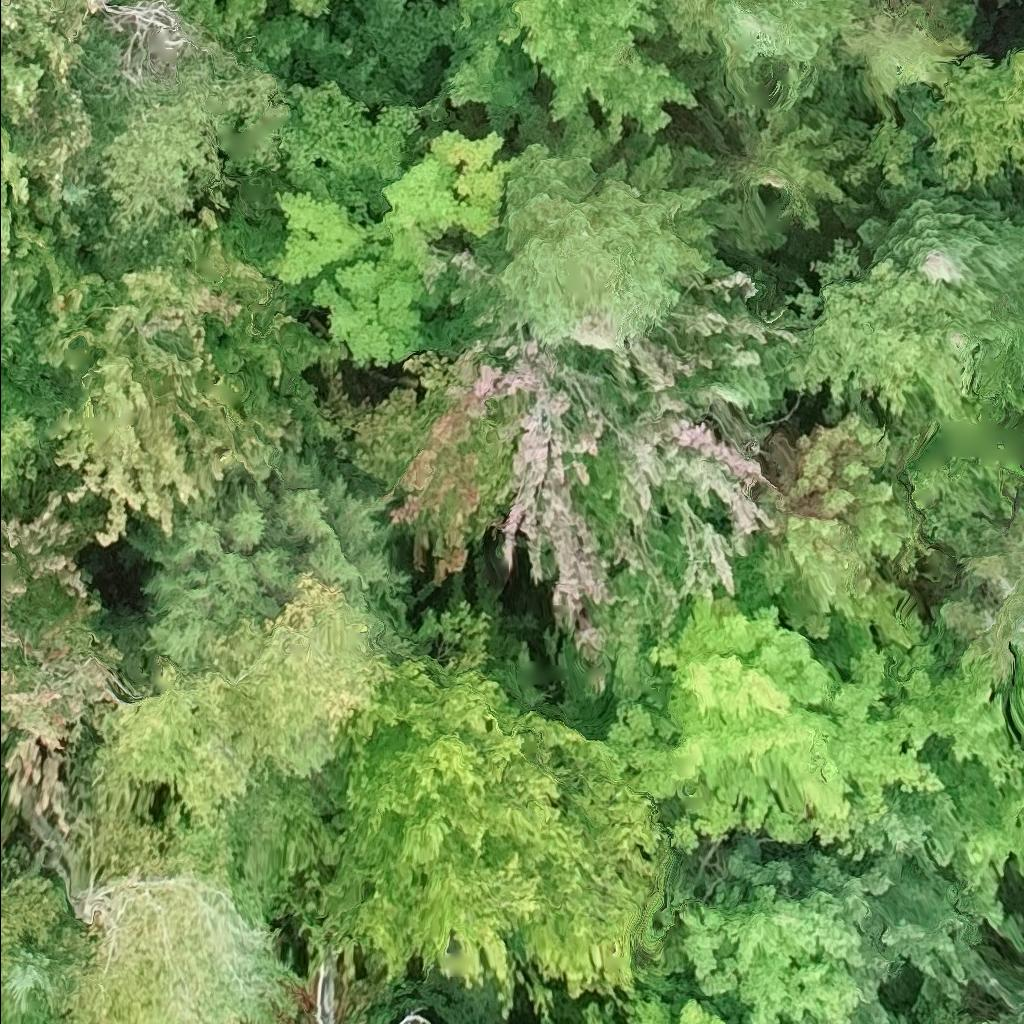crown: (255, 126, 548, 368), (438, 0, 704, 153), (777, 169, 1023, 311), (914, 45, 1023, 199), (185, 0, 271, 39), (282, 0, 340, 18)
